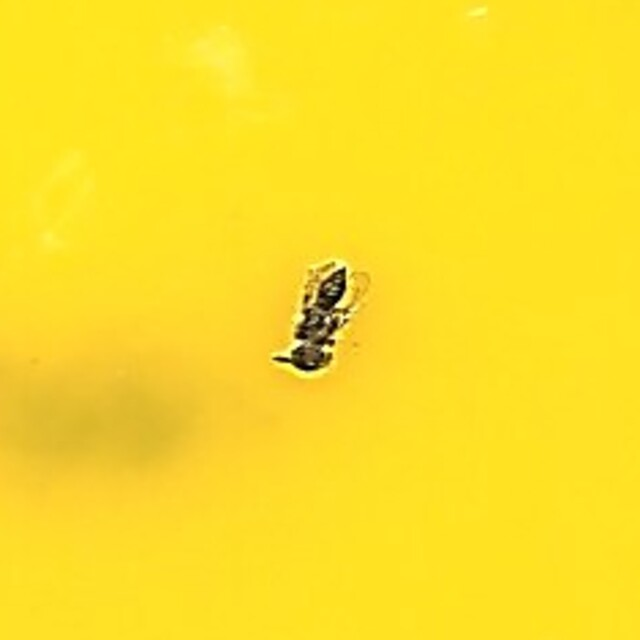Hymenoptera: (272, 259, 368, 381)
